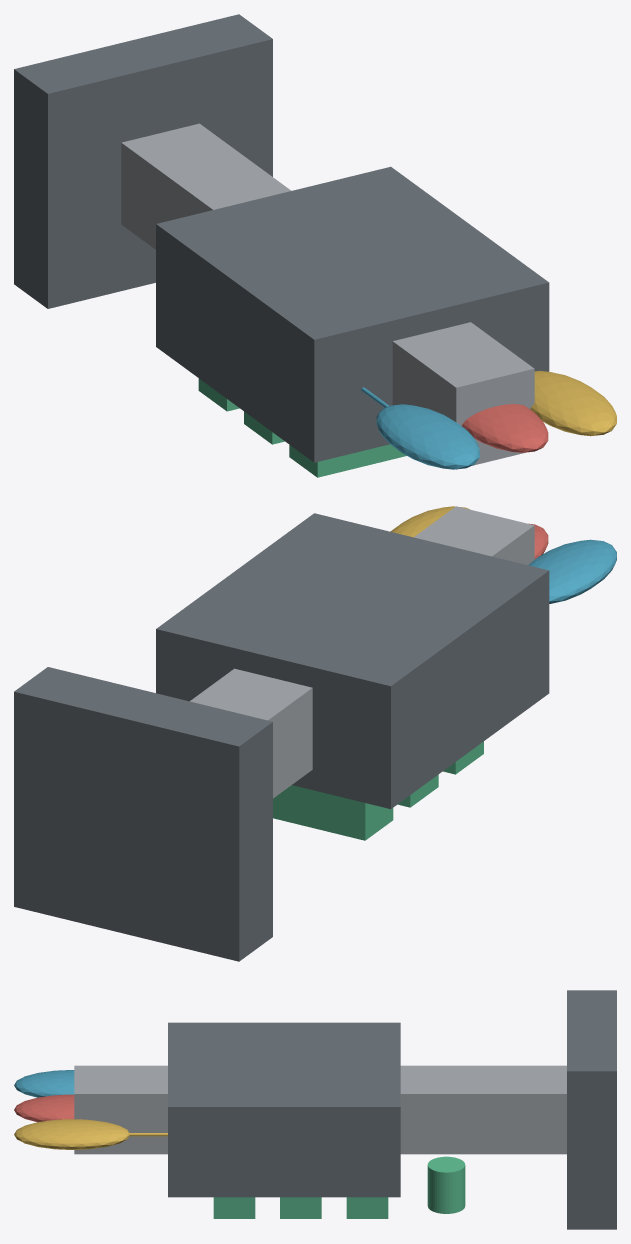
The model's file is dranmar_resuscitation_module_active.glb.
3 views of the same model, one above another, from view 1: azimuth 30°, elevation 25°; view 2: azimuth 150°, elevation 25°; view 3: azimuth 270°, elevation 25° (orthographic). The views are drawn at different scales.
Visible parts, largest first — view 1: pump_rack, resus_base, resus_column, bag_0, bag_2, bag_1, pump_0; view 2: pump_rack, resus_base, resus_column, pump_2, bag_0, bag_2; view 3: pump_rack, resus_column, resus_base, bag_2, ventilation_valve, bag_1, bag_0, pump_0, pump_2, pump_1.
Boxes of the visible parts, left/top/right/bottom form: pump_rack: left=156, top=166, right=549, bottom=462; resus_base: left=14, top=14, right=272, bottom=308; resus_column: left=121, top=123, right=534, bottom=469; bag_0: left=376, top=404, right=479, bottom=469; bag_2: left=530, top=371, right=616, bottom=436; bag_1: left=462, top=404, right=548, bottom=452; pump_0: left=289, top=444, right=406, bottom=477; pump_rack: left=156, top=513, right=549, bottom=808; resus_base: left=14, top=667, right=272, bottom=961; resus_column: left=190, top=506, right=534, bottom=798; pump_2: left=273, top=785, right=393, bottom=840; bag_0: left=528, top=539, right=616, bottom=603; bag_2: left=390, top=506, right=469, bottom=537; pump_rack: left=168, top=1022, right=400, bottom=1197; resus_column: left=74, top=1065, right=566, bottom=1154; resus_base: left=567, top=990, right=616, bottom=1229; bag_2: left=14, top=1119, right=129, bottom=1149; ventilation_valve: left=427, top=1156, right=465, bottom=1213; bag_1: left=14, top=1094, right=74, bottom=1122; bag_0: left=14, top=1070, right=74, bottom=1097; pump_0: left=213, top=1197, right=255, bottom=1218; pump_2: left=346, top=1197, right=388, bottom=1218; pump_1: left=280, top=1197, right=321, bottom=1218.
Bounding box in the file's own units: 0.48 × 0.465 × 1.45.
